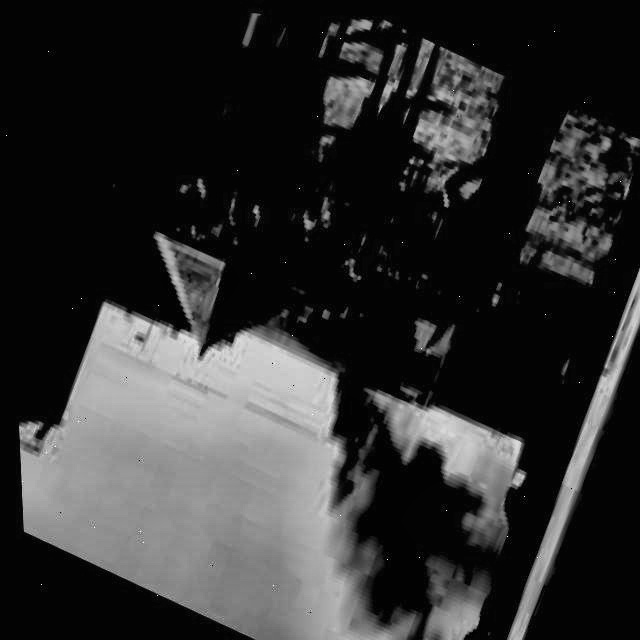Smoke: (220, 337, 559, 640)
